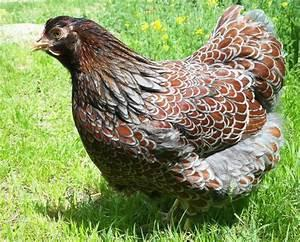hen: (18, 15, 296, 228)
